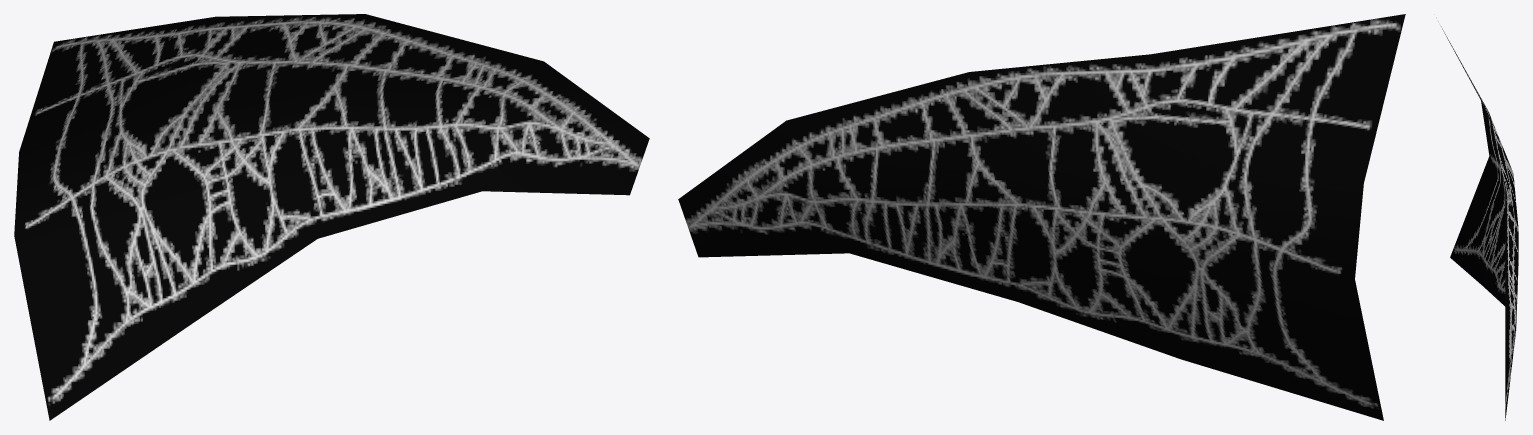
The model's file is SM_Cobwebs_07.fbx.
The picture shows the model from 3 angles, left to right: view 1: azimuth 30°, elevation 25°; view 2: azimuth 150°, elevation 25°; view 3: azimuth 270°, elevation 25°; orthographic projection. The views are drawn at different scales.
Visible parts, largest first — view 1: SM_Cobwebs_07; view 2: SM_Cobwebs_07; view 3: SM_Cobwebs_07.
Part boxes in pixels (left/top/right/bottom): SM_Cobwebs_07: left=14, top=14, right=649, bottom=420; SM_Cobwebs_07: left=678, top=14, right=1405, bottom=420; SM_Cobwebs_07: left=1438, top=21, right=1518, bottom=420.
Bounding box in the file's own units: 155 × 88.27 × 28.07.
1 material, 1 textured.
